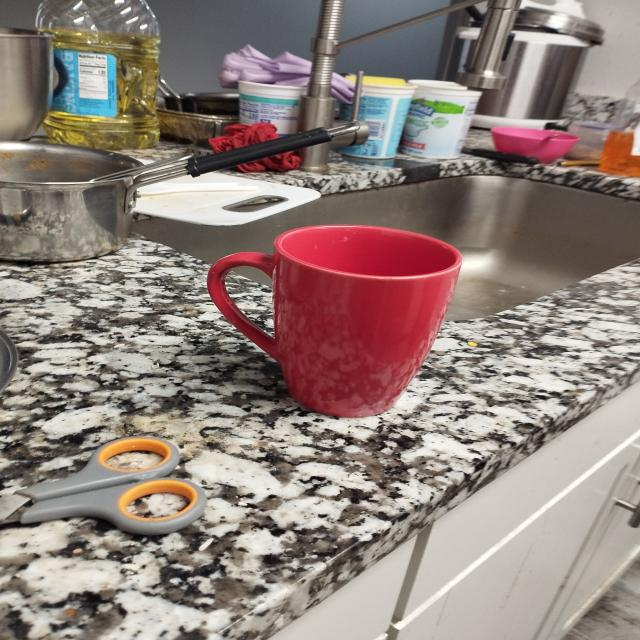Cup: (199, 204, 500, 430)
